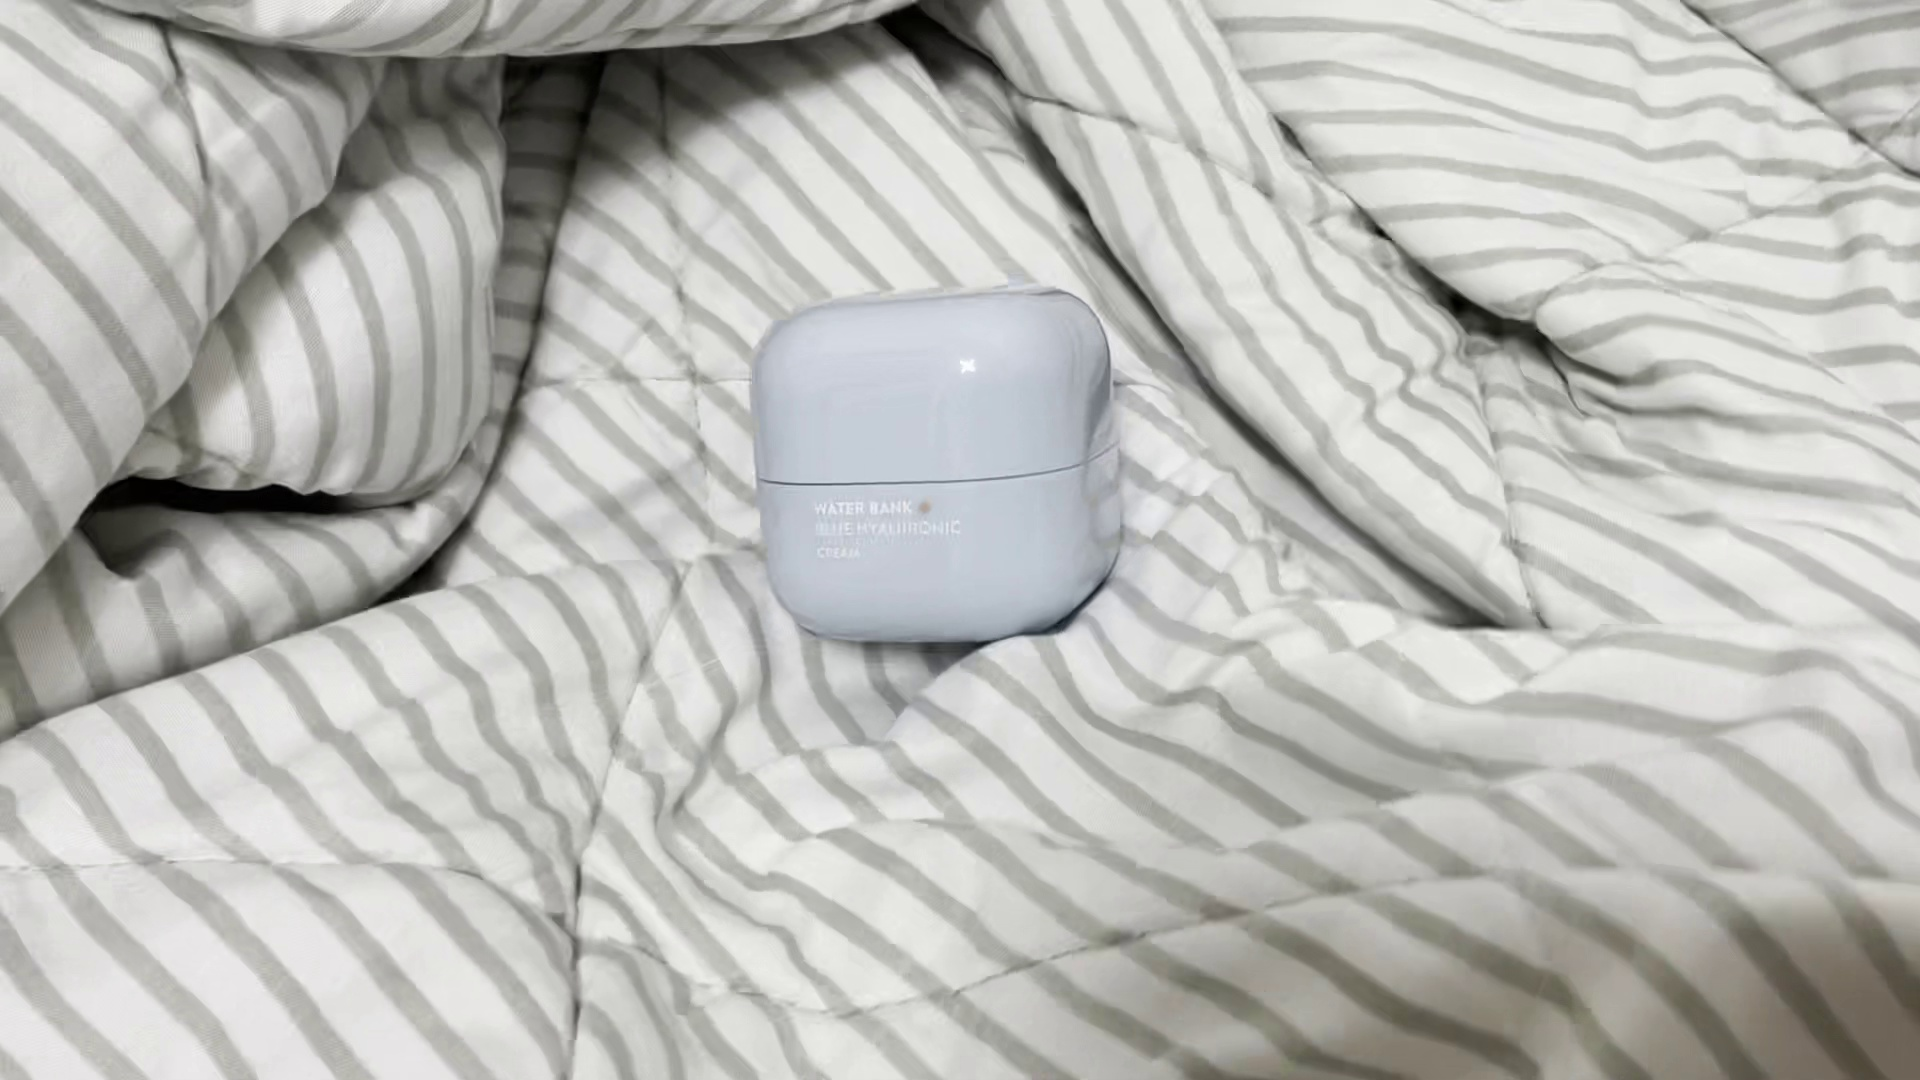cream: (752, 284, 1124, 647)
